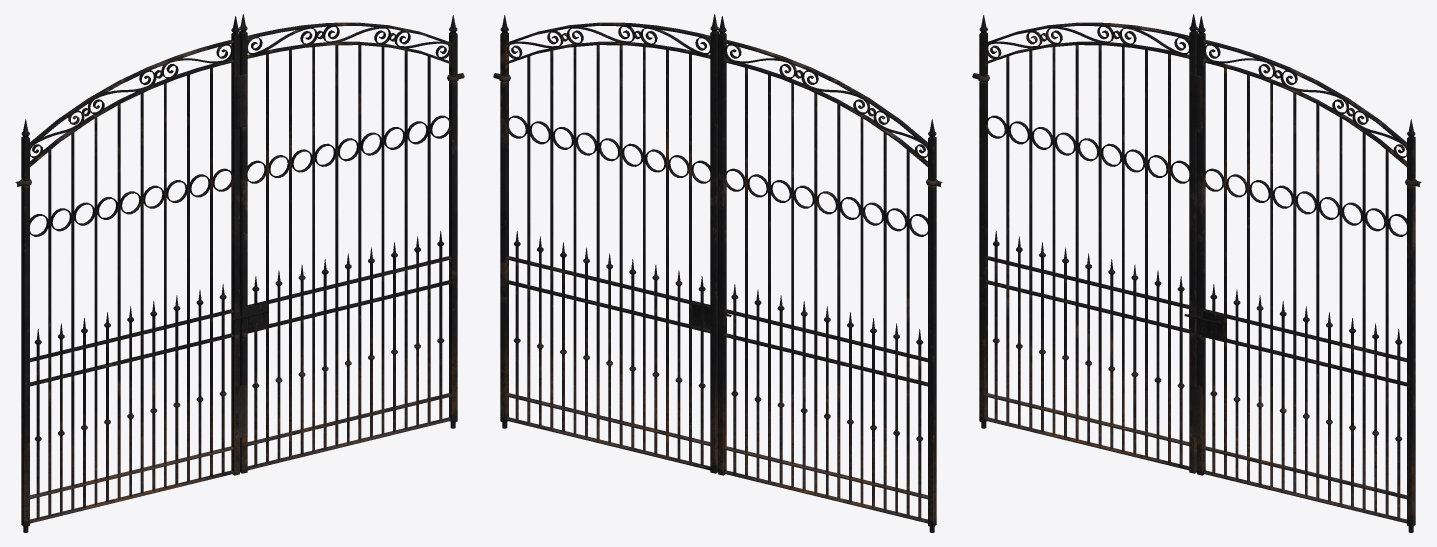
File: large_iron_gate.glb
3 views of the same model, side by side, from view 1: azimuth 30°, elevation 25°; view 2: azimuth 150°, elevation 25°; view 3: azimuth 330°, elevation 25° (orthographic).
Parts seen in each view (by area): view 1: large_iron_gate_right_door, large_iron_gate_left_door; view 2: large_iron_gate_left_door, large_iron_gate_right_door; view 3: large_iron_gate_right_door, large_iron_gate_left_door.
Part boxes in pixels (x1,y1,x2,y2): large_iron_gate_right_door: (235,14,457,473); large_iron_gate_left_door: (21,16,241,532); large_iron_gate_left_door: (718,16,936,532); large_iron_gate_right_door: (500,14,718,473); large_iron_gate_right_door: (1190,16,1415,532); large_iron_gate_left_door: (979,14,1197,473).
Size of the model in its own units: 2.95 by 2.93 by 0.0974.
Materials: 1 (1 with a texture image).
